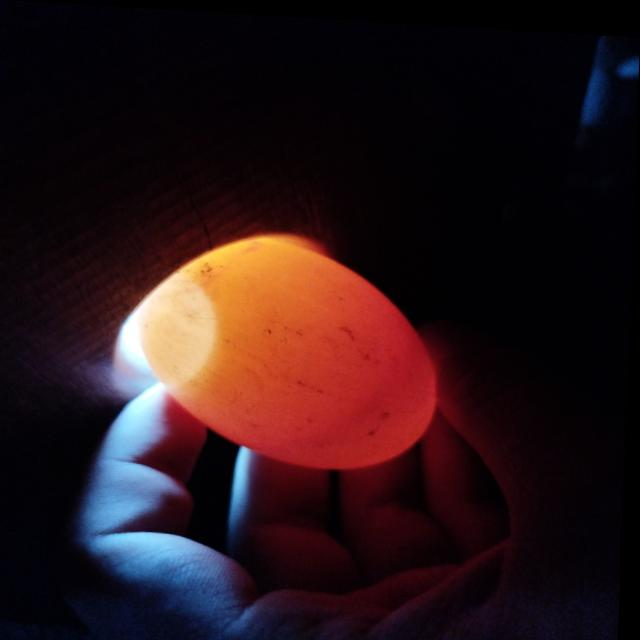Camara de Ar: (141, 271, 218, 382)
